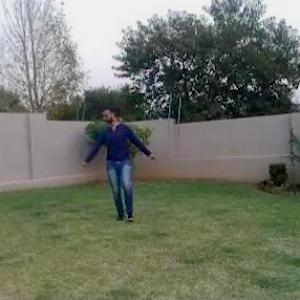land: (57, 85, 164, 232)
